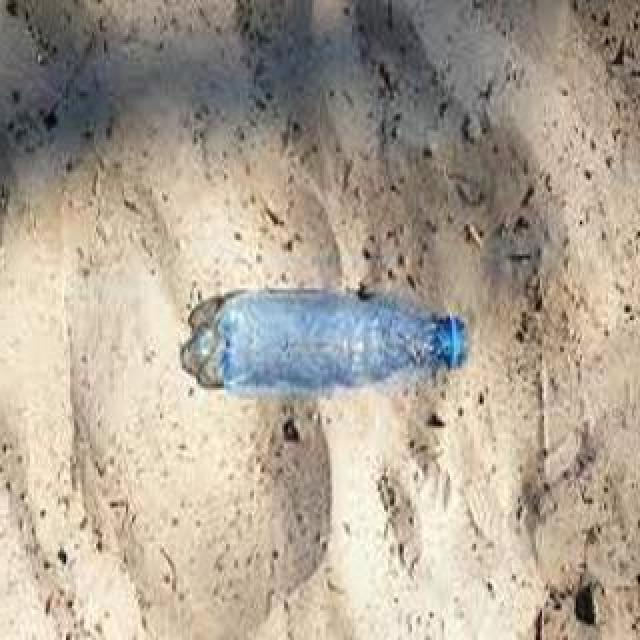Pet_Bottle: (206, 280, 466, 408)
